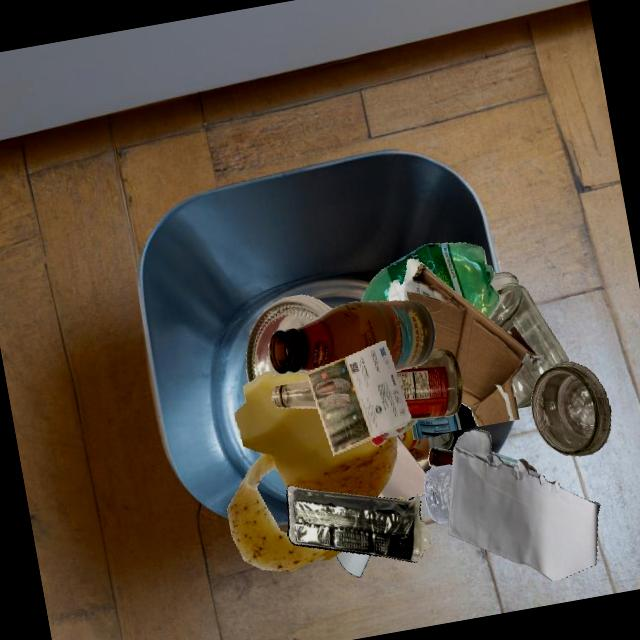biowaste: (227, 371, 396, 571)
cardboard: (387, 258, 545, 426)
glass: (268, 300, 435, 374), (489, 271, 569, 408), (246, 294, 332, 382), (531, 361, 610, 455), (396, 348, 462, 419), (411, 402, 477, 439), (397, 426, 453, 461), (271, 379, 317, 408), (452, 455, 528, 469)
paper: (447, 428, 600, 581), (306, 340, 411, 455), (377, 434, 425, 500), (335, 550, 370, 576)
plastic: (286, 485, 429, 562), (360, 242, 499, 318), (451, 465, 554, 481), (424, 471, 451, 522), (370, 418, 419, 446)
